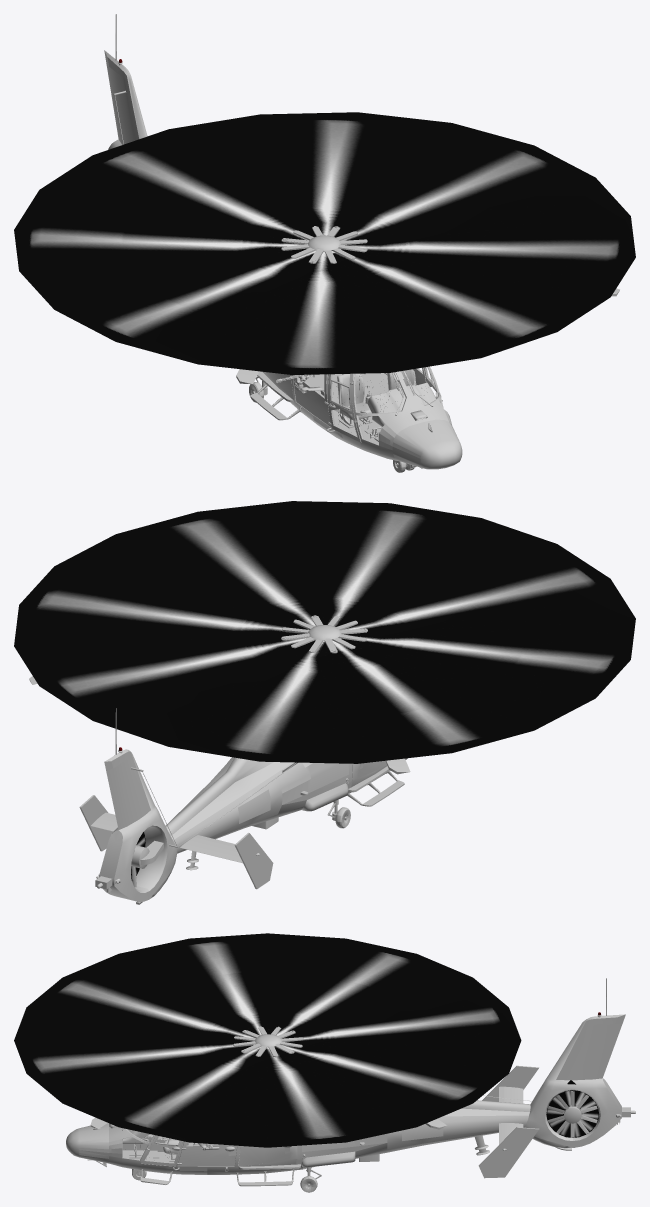
3 renders of one model, top to bottom at view 1: azimuth 30°, elevation 25°; view 2: azimuth 150°, elevation 25°; view 3: azimuth 270°, elevation 25°, orthographic. The views are drawn at different scales.
Visible parts, largest first — view 1: M_MainBlurredRotor, LTHE_Z_9_M001, CH_LTHE_Z_9_Cockpit_mat002, LTHE_Z_9_LOGO_M, LTHE_Z_9_M016, LTHE_Z_9_M003, LTHE_Z_9_M008, LTHE_Z_9_M005; view 2: M_MainBlurredRotor, LTHE_Z_9_M001, LTHE_Z_9_M009, LTHE_Z_9_LOGO_M, LTHE_Z_9_Decals_M005, LTHE_Z_9_M016, LTHE_Z_9_M008; view 3: M_MainBlurredRotor, LTHE_Z_9_M001, LTHE_Z_9_M009, LTHE_Z_9_LOGO_M, M_TailBlurredRotor, CH_LTHE_Z_9_Cockpit_mat002, LTHE_Z_9_M002, LTHE_Z_9_M016, LTHE_Z_9_M006, LTHE_Z_9_M014, LTHE_Z_9_Decals_M005, LTHE_Z_9_M008 (+2 smaller).
Boxes of the visible parts, left/top/right/bottom form: M_MainBlurredRotor: left=14, top=112, right=635, bottom=374; LTHE_Z_9_M001: left=104, top=14, right=462, bottom=469; CH_LTHE_Z_9_Cockpit_mat002: left=294, top=367, right=440, bottom=444; LTHE_Z_9_LOGO_M: left=106, top=63, right=420, bottom=464; LTHE_Z_9_M016: left=281, top=226, right=367, bottom=263; LTHE_Z_9_M003: left=293, top=374, right=331, bottom=427; LTHE_Z_9_M008: left=236, top=226, right=619, bottom=384; LTHE_Z_9_M005: left=328, top=373, right=360, bottom=442; M_MainBlurredRotor: left=14, top=501, right=635, bottom=763; LTHE_Z_9_M001: left=95, top=708, right=407, bottom=904; LTHE_Z_9_M009: left=79, top=795, right=273, bottom=889; LTHE_Z_9_LOGO_M: left=106, top=752, right=150, bottom=829; LTHE_Z_9_Decals_M005: left=111, top=751, right=352, bottom=823; LTHE_Z_9_M016: left=281, top=615, right=367, bottom=652; LTHE_Z_9_M008: left=29, top=615, right=410, bottom=774; M_MainBlurredRotor: left=14, top=933, right=521, bottom=1147; LTHE_Z_9_M001: left=66, top=978, right=635, bottom=1174; LTHE_Z_9_M009: left=478, top=1065, right=539, bottom=1178; LTHE_Z_9_LOGO_M: left=79, top=1022, right=622, bottom=1158; M_TailBlurredRotor: left=546, top=1080, right=599, bottom=1137; CH_LTHE_Z_9_Cockpit_mat002: left=122, top=1129, right=239, bottom=1165; LTHE_Z_9_M002: left=176, top=1141, right=237, bottom=1166; LTHE_Z_9_M016: left=233, top=1026, right=303, bottom=1057; LTHE_Z_9_M006: left=238, top=1146, right=297, bottom=1166; LTHE_Z_9_M014: left=547, top=1091, right=597, bottom=1137; LTHE_Z_9_Decals_M005: left=109, top=1017, right=617, bottom=1168; LTHE_Z_9_M008: left=90, top=1030, right=446, bottom=1129.
Size of the model in its own units: 477 by 207 by 585.
